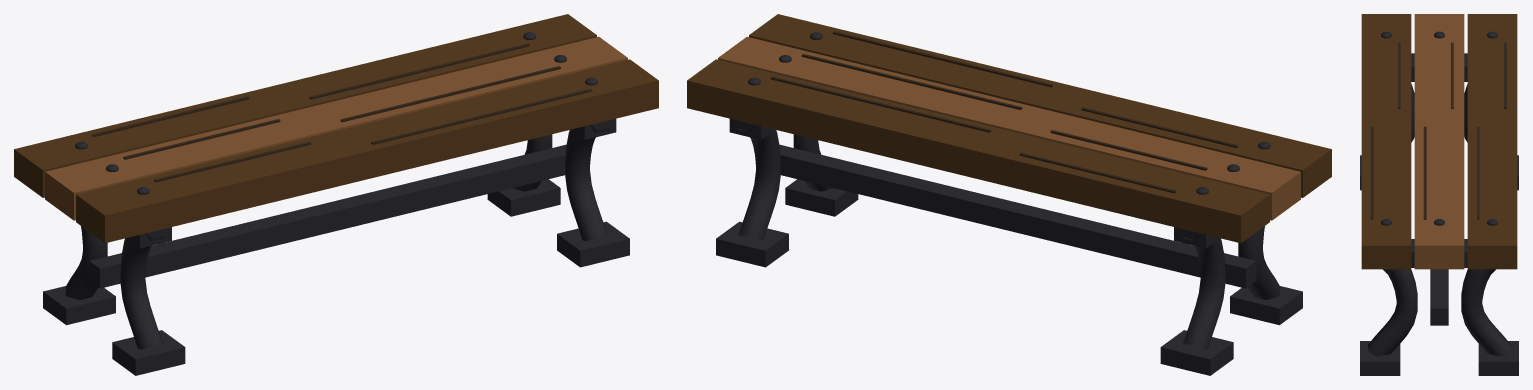
The model's file is mia-bench.glb.
3 renders of one model, left to right at view 1: azimuth 30°, elevation 25°; view 2: azimuth 150°, elevation 25°; view 3: azimuth 270°, elevation 25°, orthographic. The views are drawn at different scales.
Visible parts, largest first — view 1: Body_wood, Body_iron, Body_oak, Body_grain; view 2: Body_wood, Body_iron, Body_oak, Body_grain; view 3: Body_wood, Body_oak, Body_iron, Body_grain.
Part boxes in pixels (x1,y1,x2,y2): Body_wood: (14,14,658,243); Body_iron: (43,32,629,375); Body_oak: (45,36,627,220); Body_grain: (92,43,591,182); Body_wood: (687,14,1331,243); Body_iron: (716,32,1302,375); Body_oak: (718,36,1300,220); Body_grain: (770,31,1238,193); Body_wood: (1361,14,1517,269); Body_oak: (1414,14,1464,269); Body_iron: (1360,31,1518,375); Body_grain: (1370,42,1506,219).
Size of the model in its own units: 1.57 by 0.4635 by 0.455.
